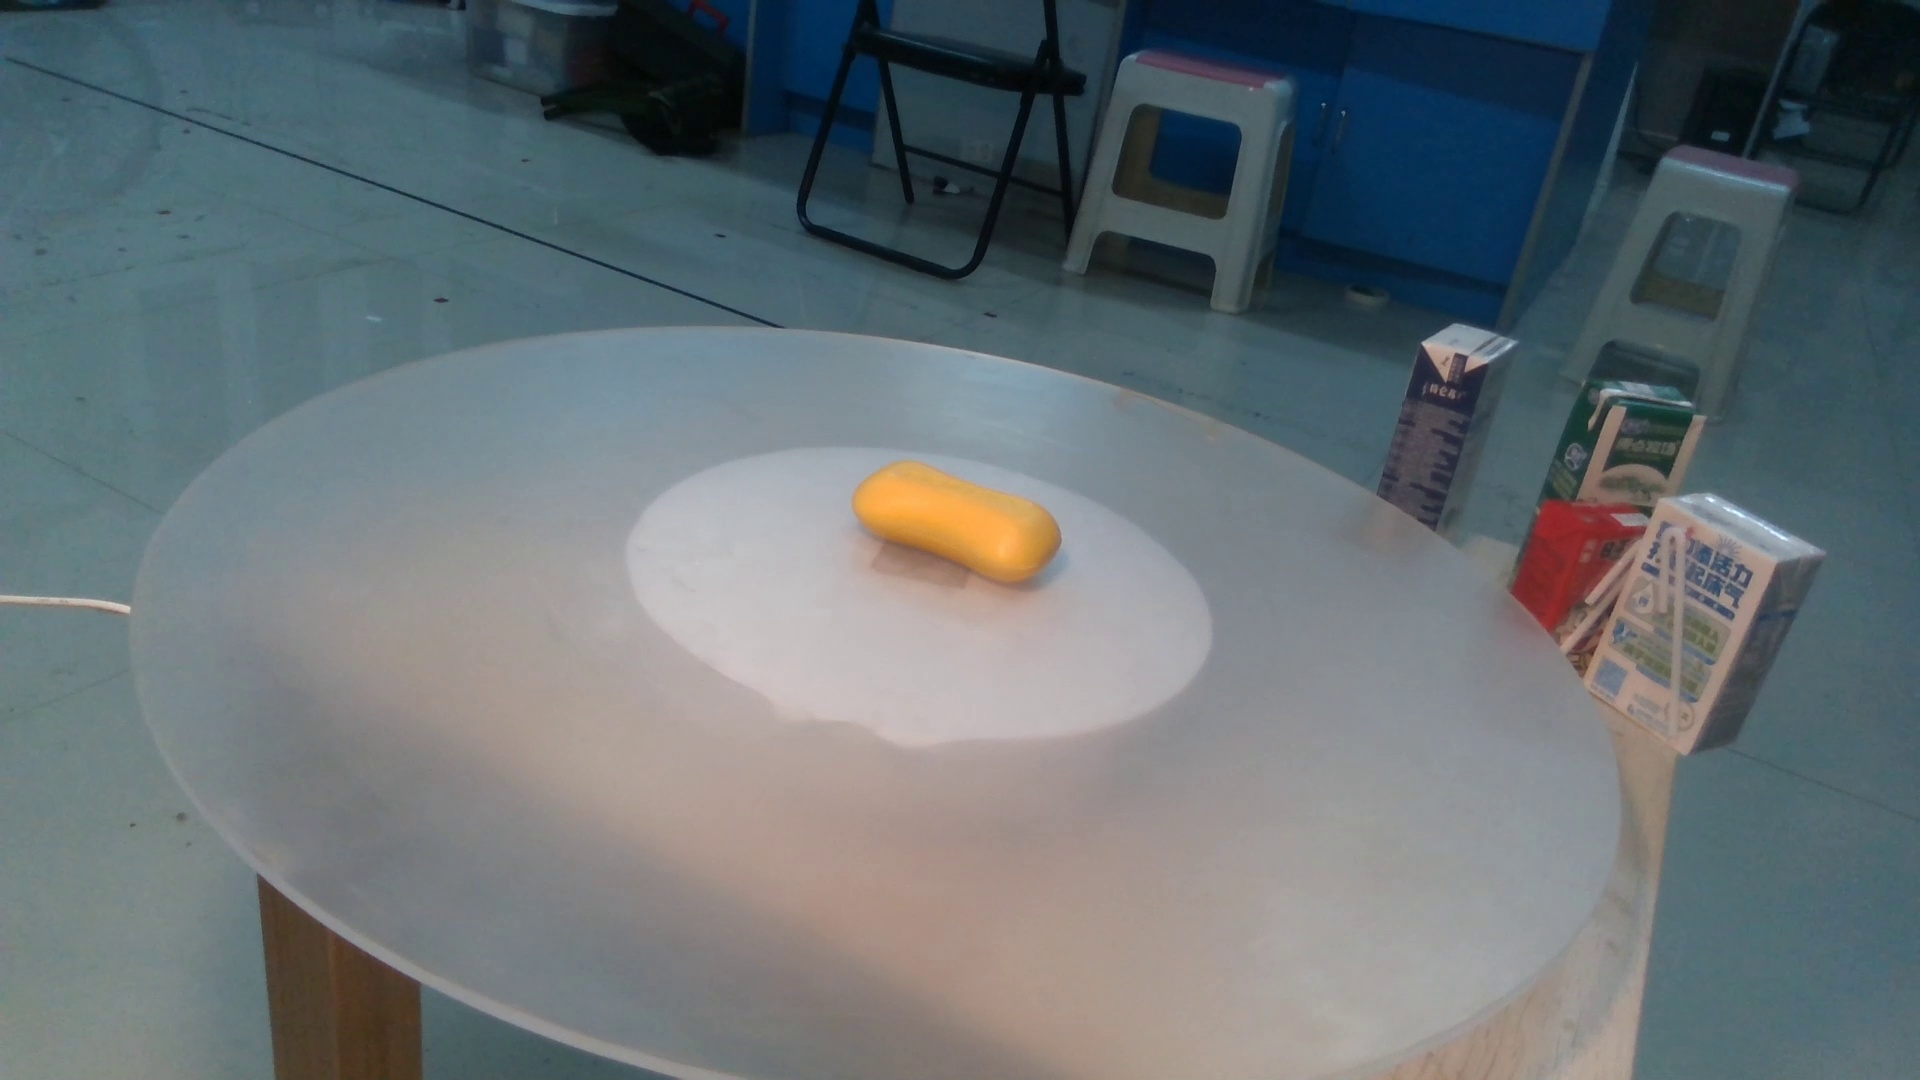CA003_1: (837, 440, 1102, 600)
